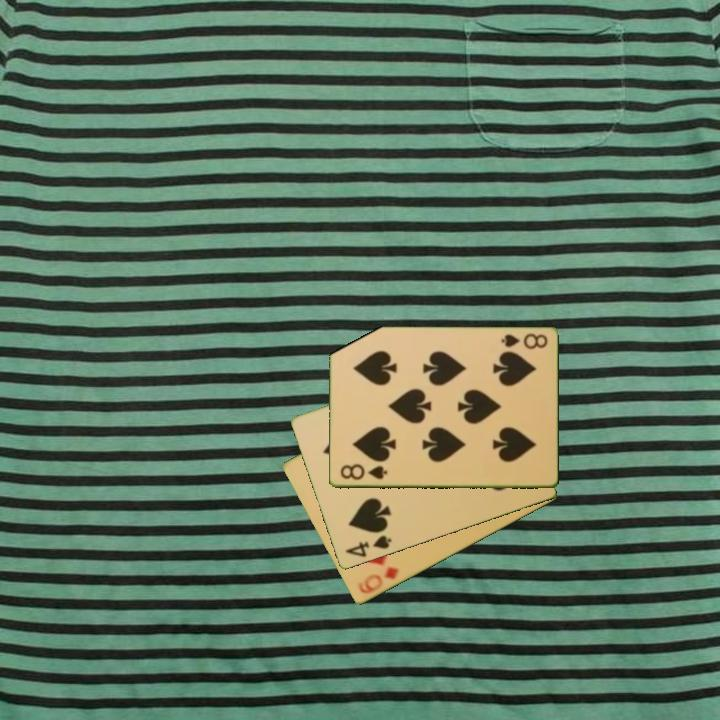4s: (341, 532, 394, 561)
6d: (354, 563, 401, 597)
8s: (498, 330, 550, 352), (337, 462, 390, 483)
